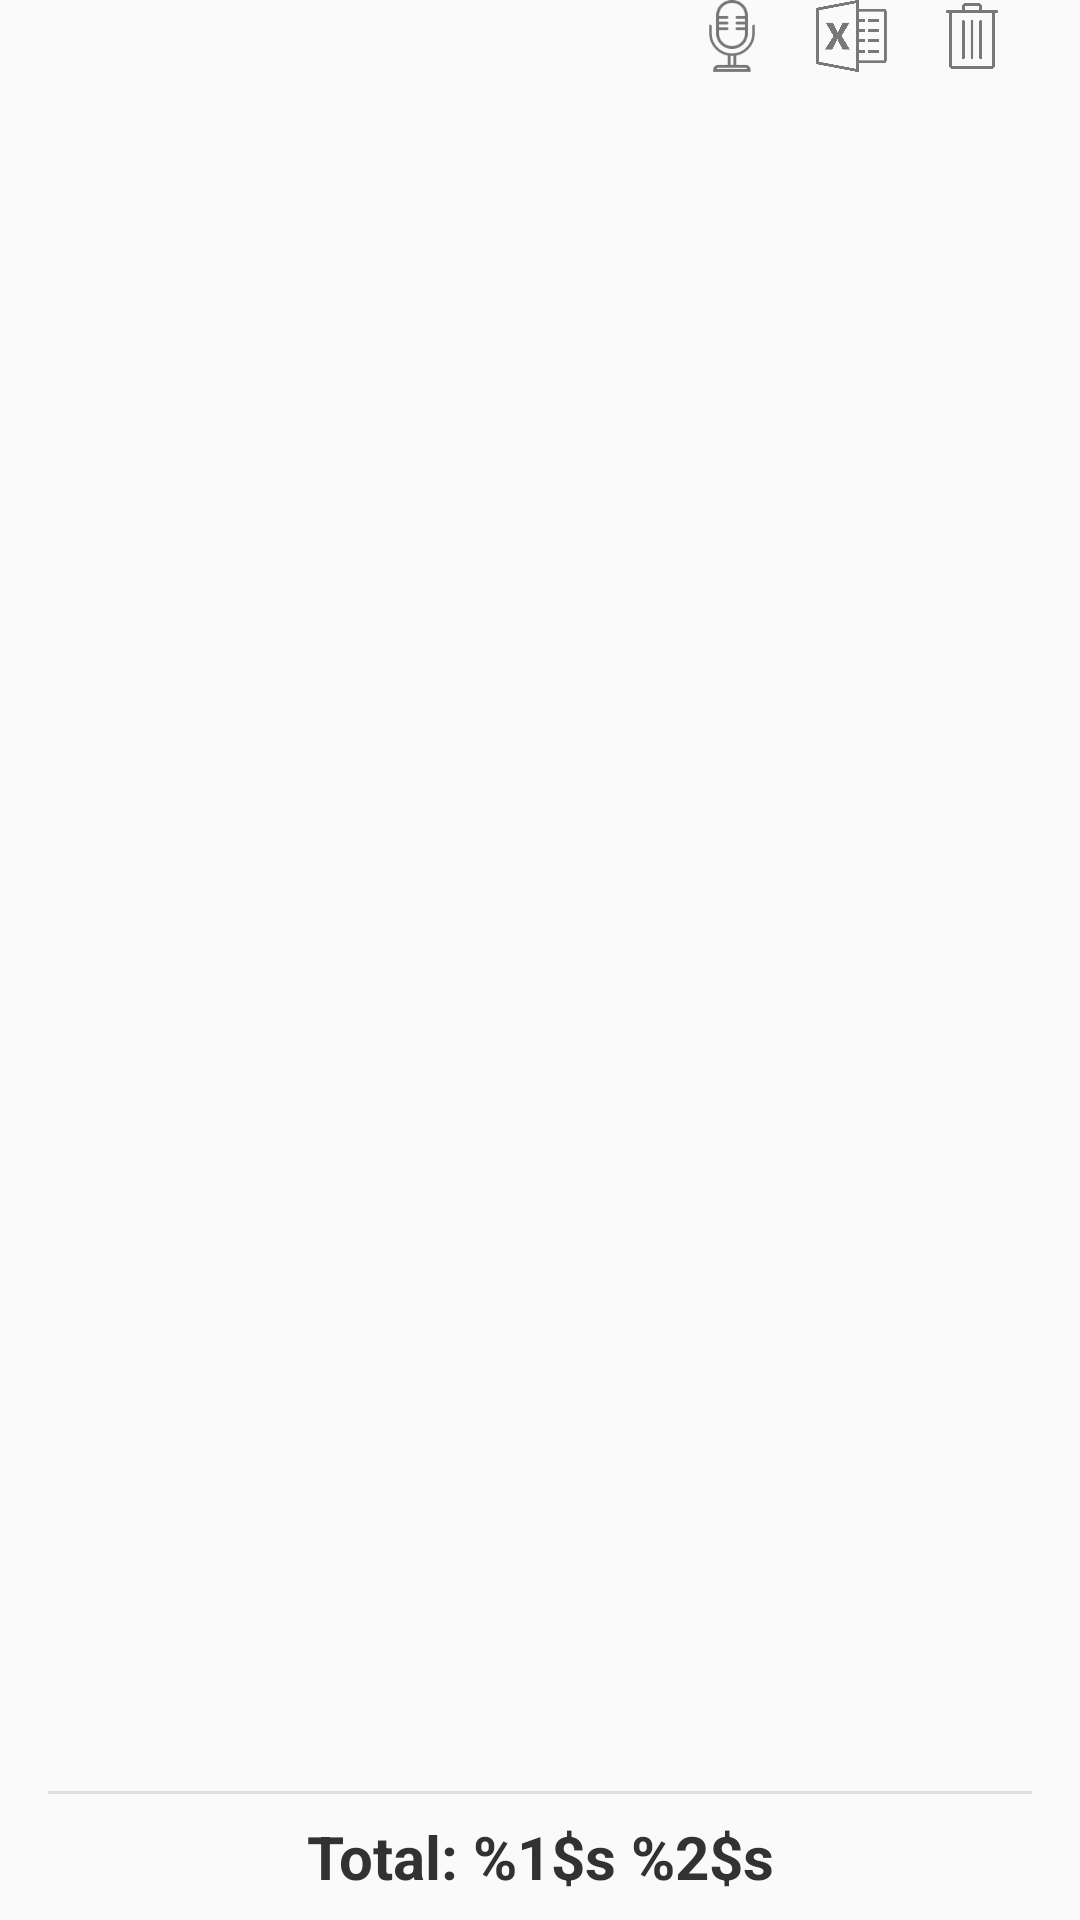

Where to tap for icons on this 1080w x 1920h app screen, as (x,y):
delete all: (972,36)
microphone: (732,36)
